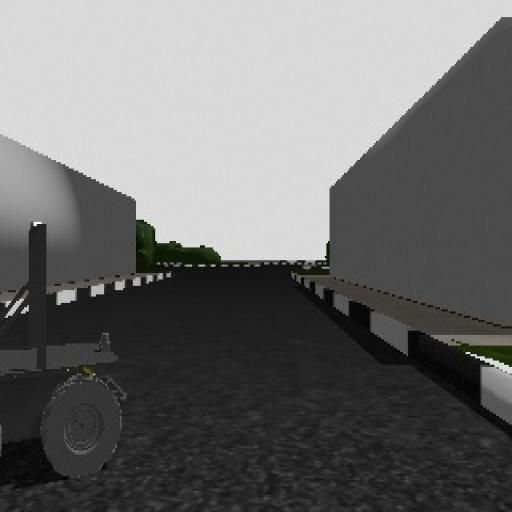huskya200: (1, 198, 129, 504)
